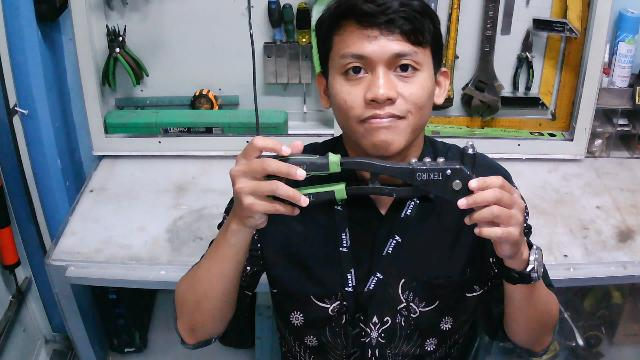tang_rivet: (244, 149, 478, 212)
